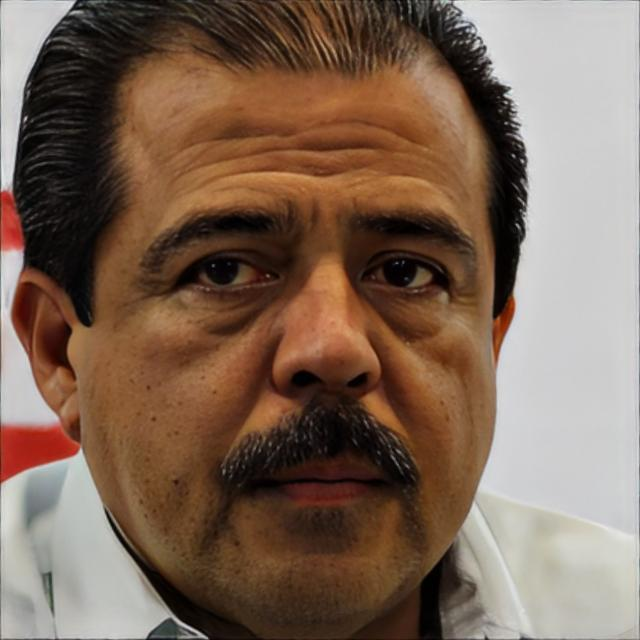sad: (80, 28, 502, 626)
